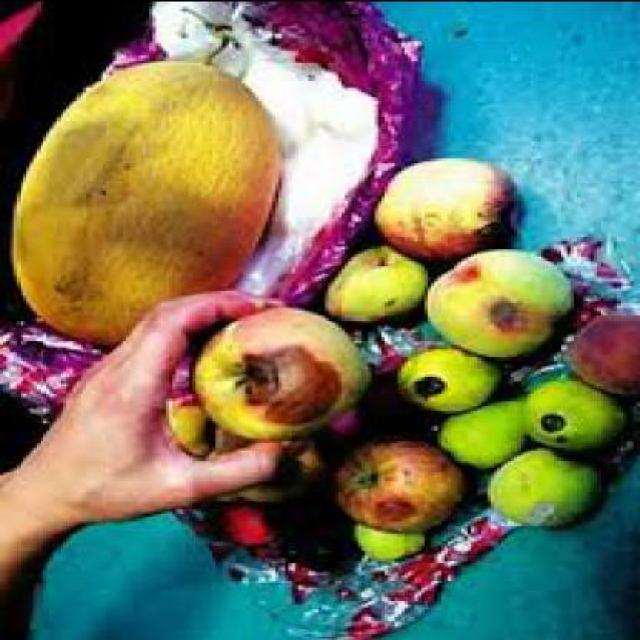BIODEGRADABLE: (10, 52, 275, 340), (189, 301, 368, 434), (421, 244, 570, 356), (368, 152, 507, 255), (332, 436, 461, 526), (484, 444, 601, 525), (318, 240, 424, 318), (206, 432, 320, 500), (521, 376, 624, 446), (392, 341, 494, 407), (435, 392, 527, 463), (563, 309, 637, 389), (159, 390, 212, 452), (348, 518, 422, 554)
